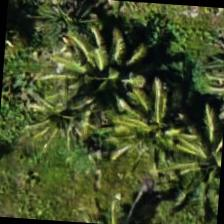Kelapa_Sawit: (107, 80, 203, 176), (58, 26, 154, 122), (162, 120, 222, 216), (0, 162, 60, 220)
